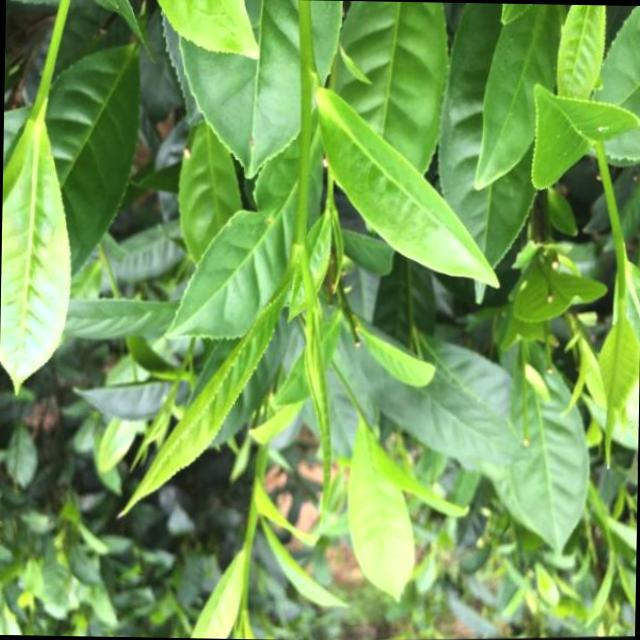Stem: (293, 225, 305, 246), (617, 250, 626, 263)
